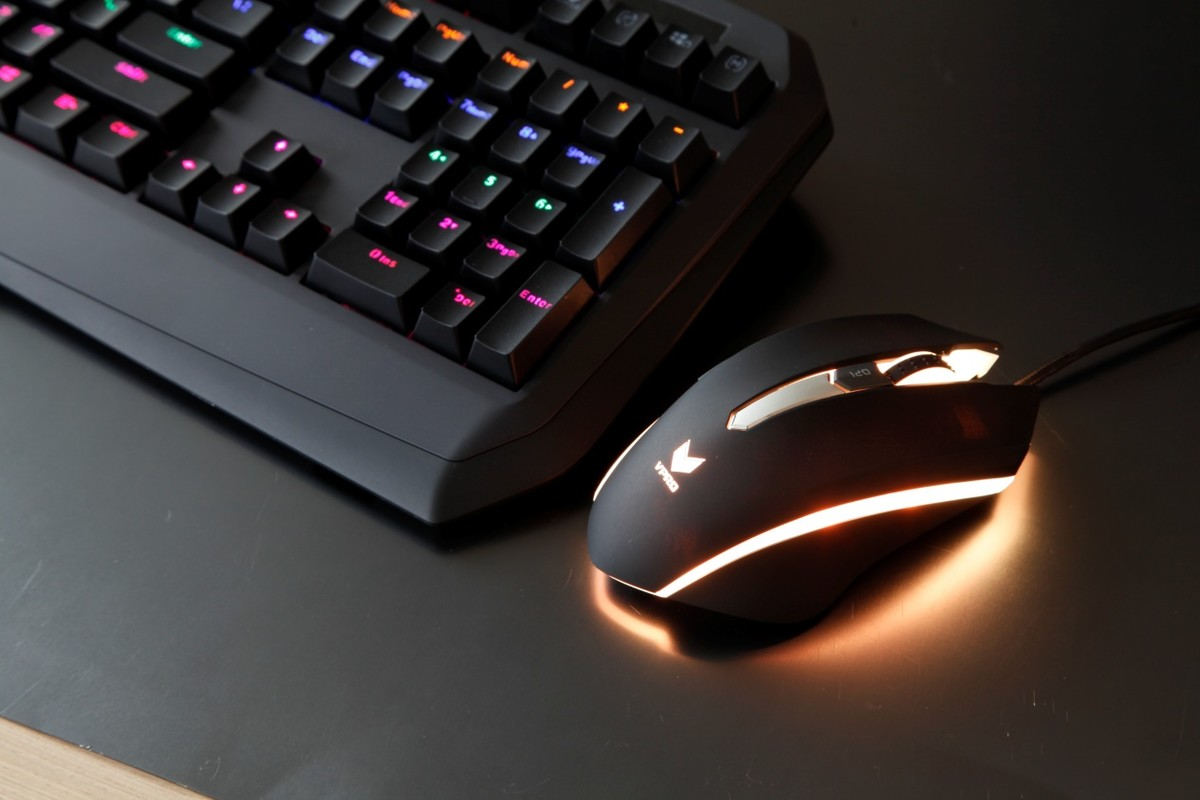keyboard: (7, 3, 841, 530)
mouse: (577, 315, 1037, 647)
